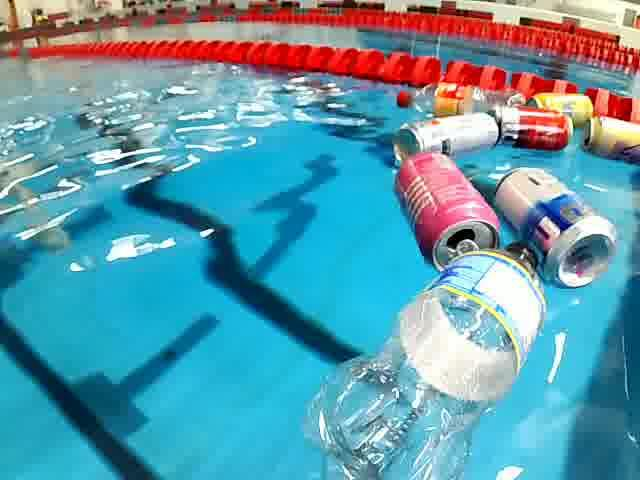Bottle: (288, 230, 554, 480), (394, 82, 527, 126)
Can: (493, 159, 623, 296), (392, 147, 501, 269), (383, 114, 507, 165), (489, 106, 583, 154), (578, 106, 640, 166), (526, 91, 600, 127)
